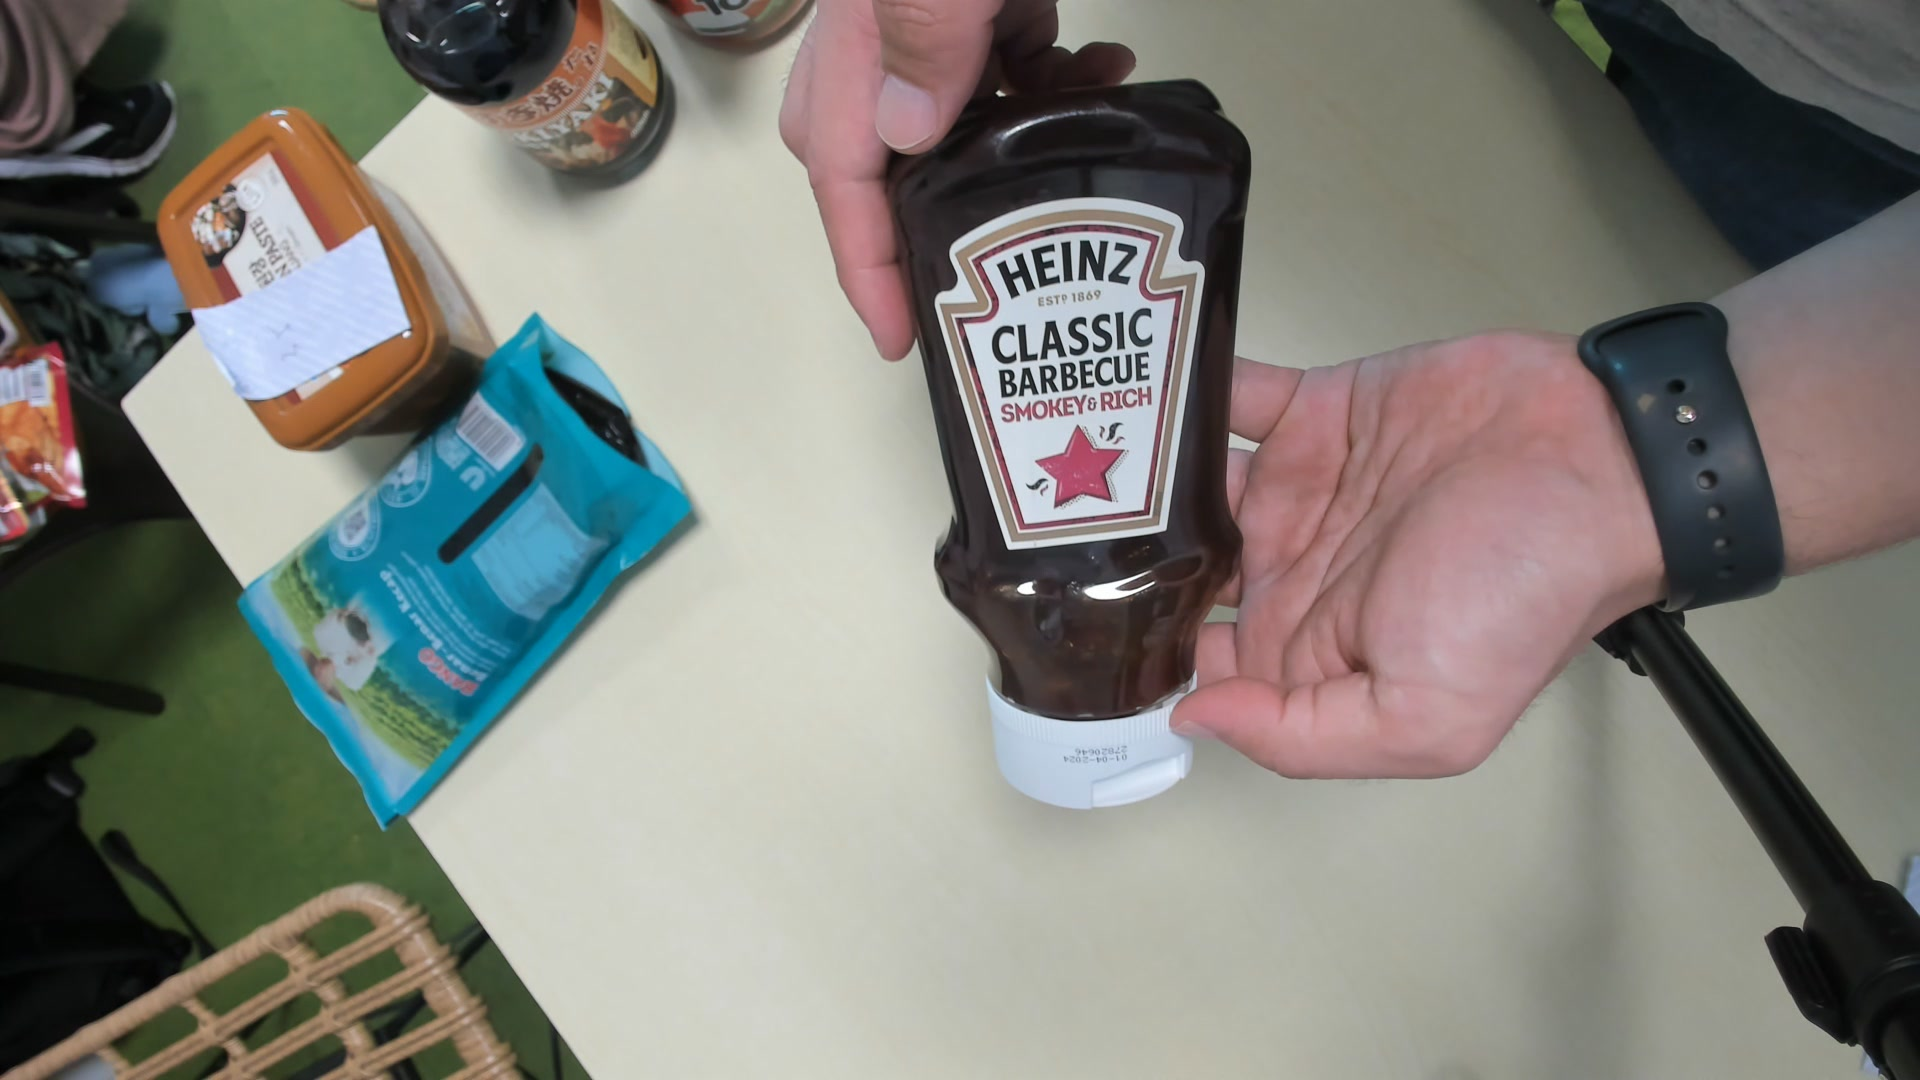OtherSauceDressing_400-499g_NonHalal_NonHealthy: (887, 84, 1258, 812)
